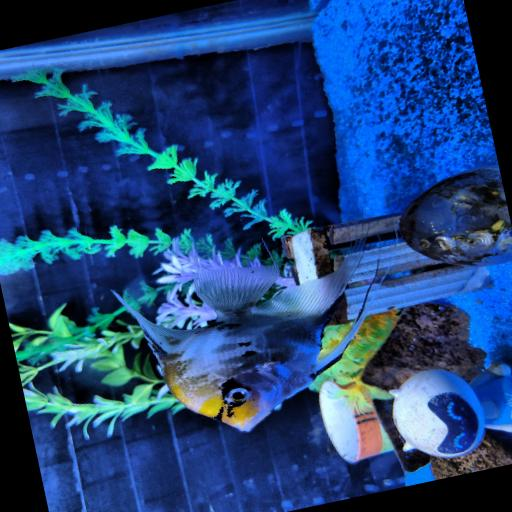Fish: (115, 252, 365, 431)
